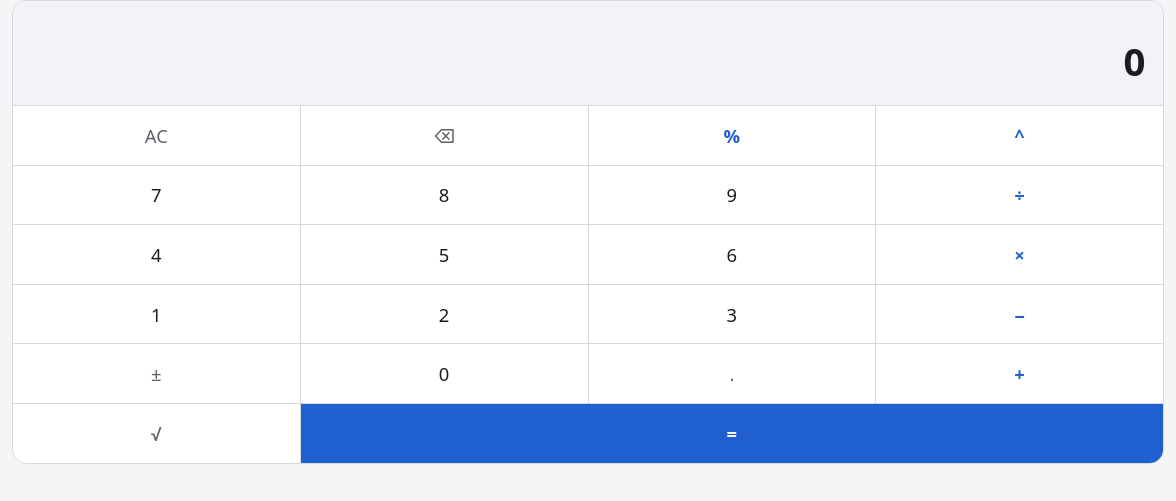
Test: Keypad › shows an unreachable service rather than failing silently
What coordinates should you click on to do the following:
click the button "1"
I would click on:
 (156, 314)
Its box is [13,285,300,343].
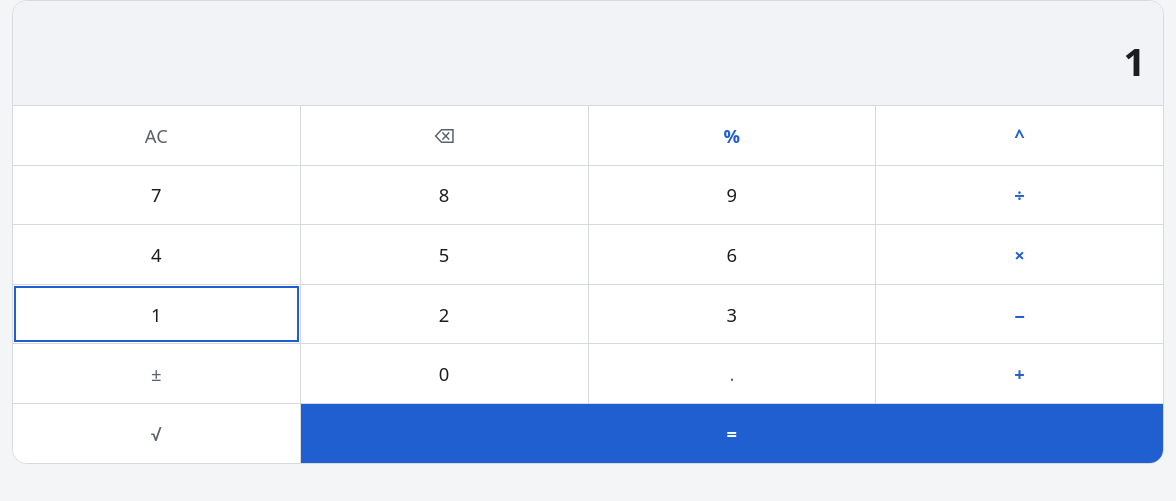
What coordinates should you click on to do the following:
click the button named "Add"
I would click on:
 (1020, 374)
Its box is [876,344,1163,403].
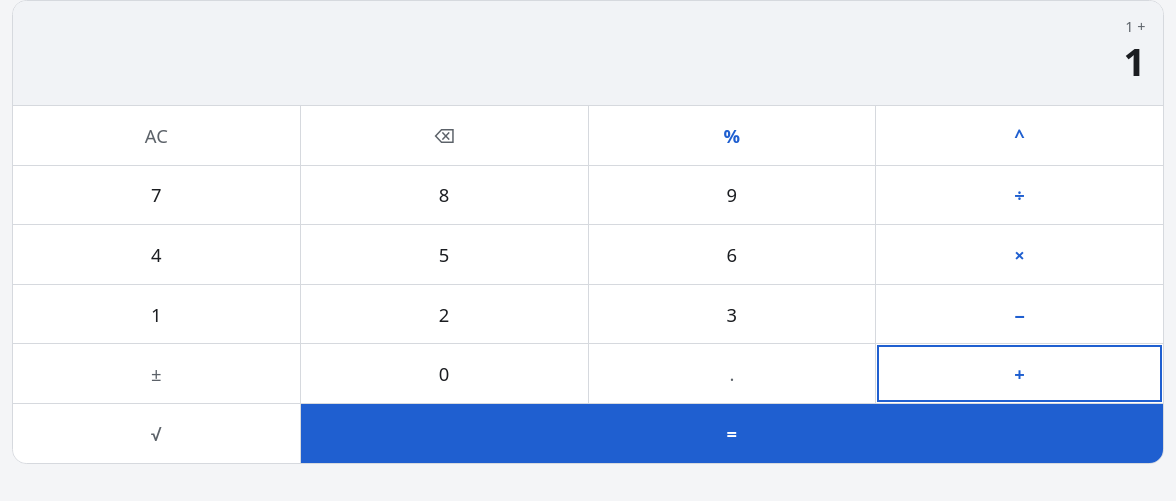
What coordinates should you click on to do the following:
click the button "1"
I would click on:
 (156, 314)
Its box is [13,285,300,343].
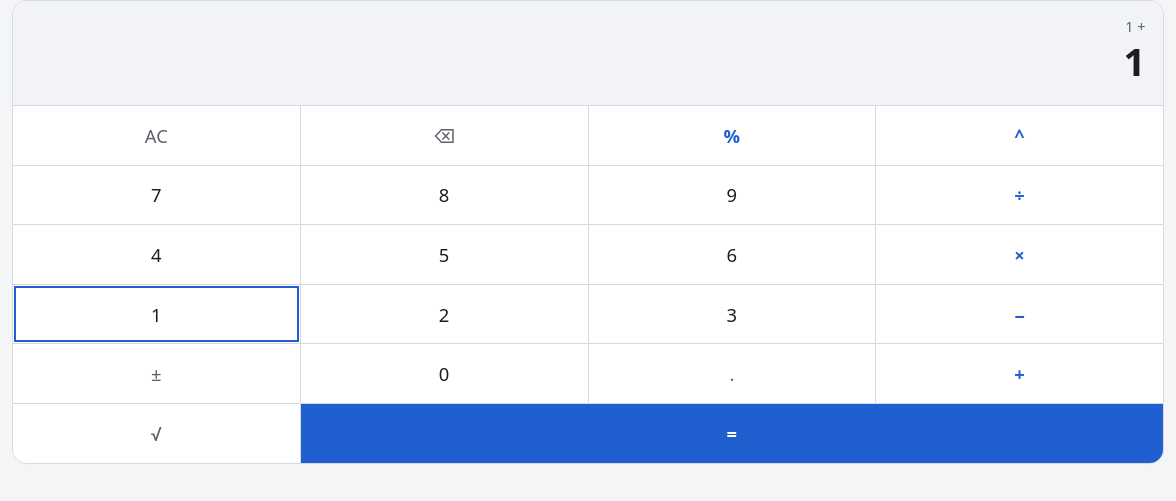
What coordinates should you click on to do the following:
click the button named "Equals"
I would click on:
 (732, 433)
Its box is [301,404,1163,463].
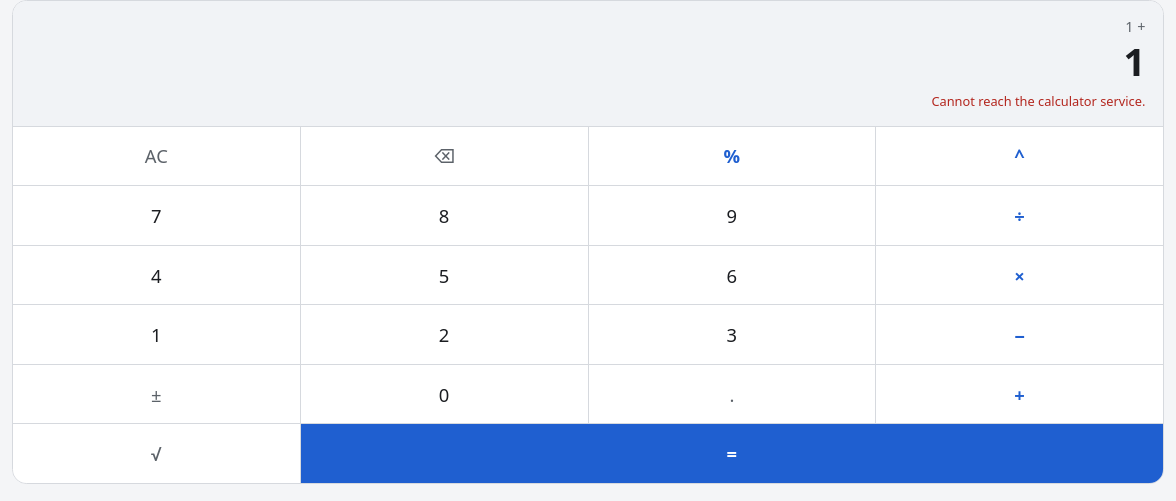
Check: the message reads "Cannot reach the calculator service.", box [931,92,1145,110]
